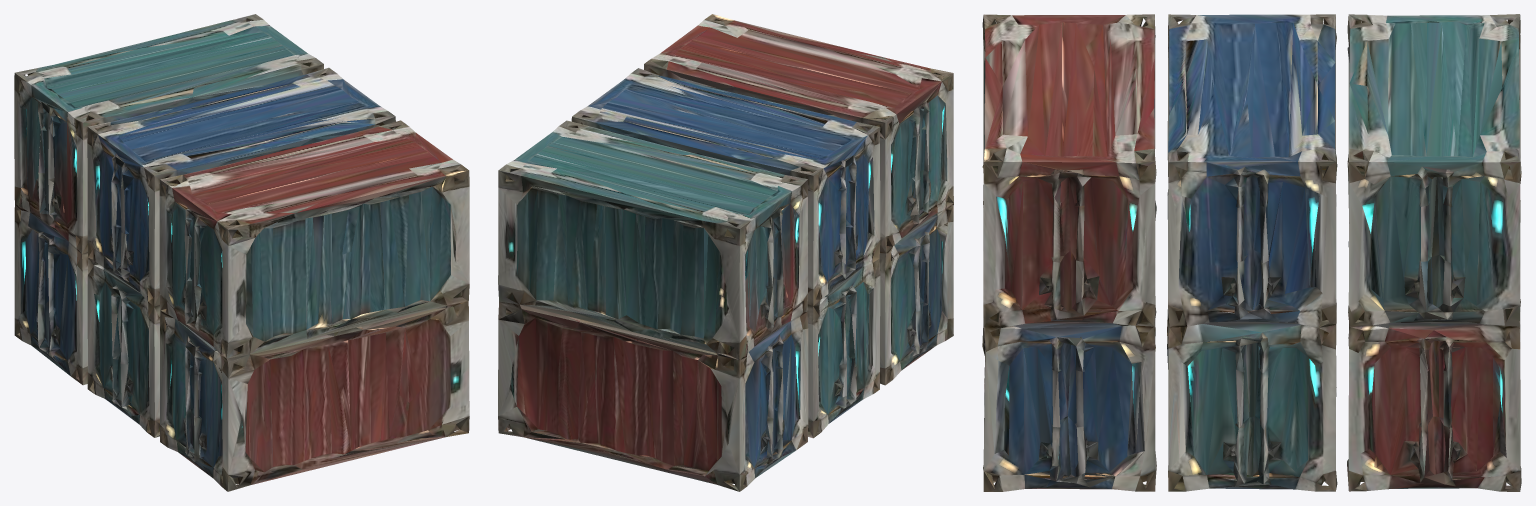
File: container_stack.glb
3 views of the same model, side by side, from view 1: azimuth 30°, elevation 25°; view 2: azimuth 150°, elevation 25°; view 3: azimuth 270°, elevation 25° (orthographic). The views are drawn at different scales.
Visible parts, largest first — view 1: container_stack; view 2: container_stack; view 3: container_stack.
Part boxes in pixels (x1=…): container_stack: x1=14, y1=14, x2=469, y2=491; container_stack: x1=498, y1=14, x2=953, y2=491; container_stack: x1=982, y1=14, x2=1521, y2=491.
Bounding box in the file's own units: 8.11 × 8.14 × 11.99.
Materials: 1 (1 with a texture image).
